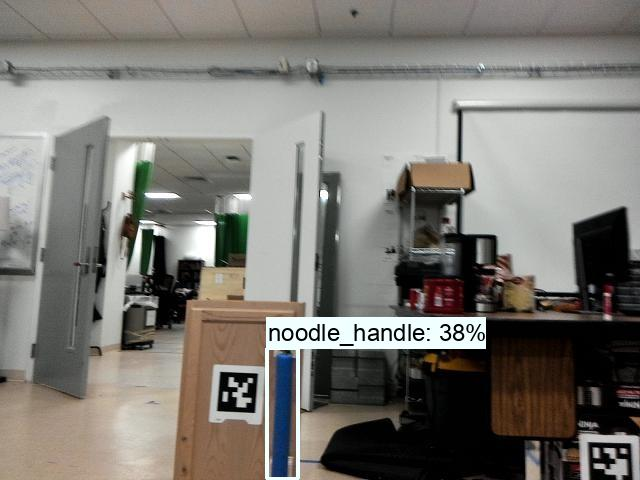noodle_handle: (264, 348, 296, 480)
